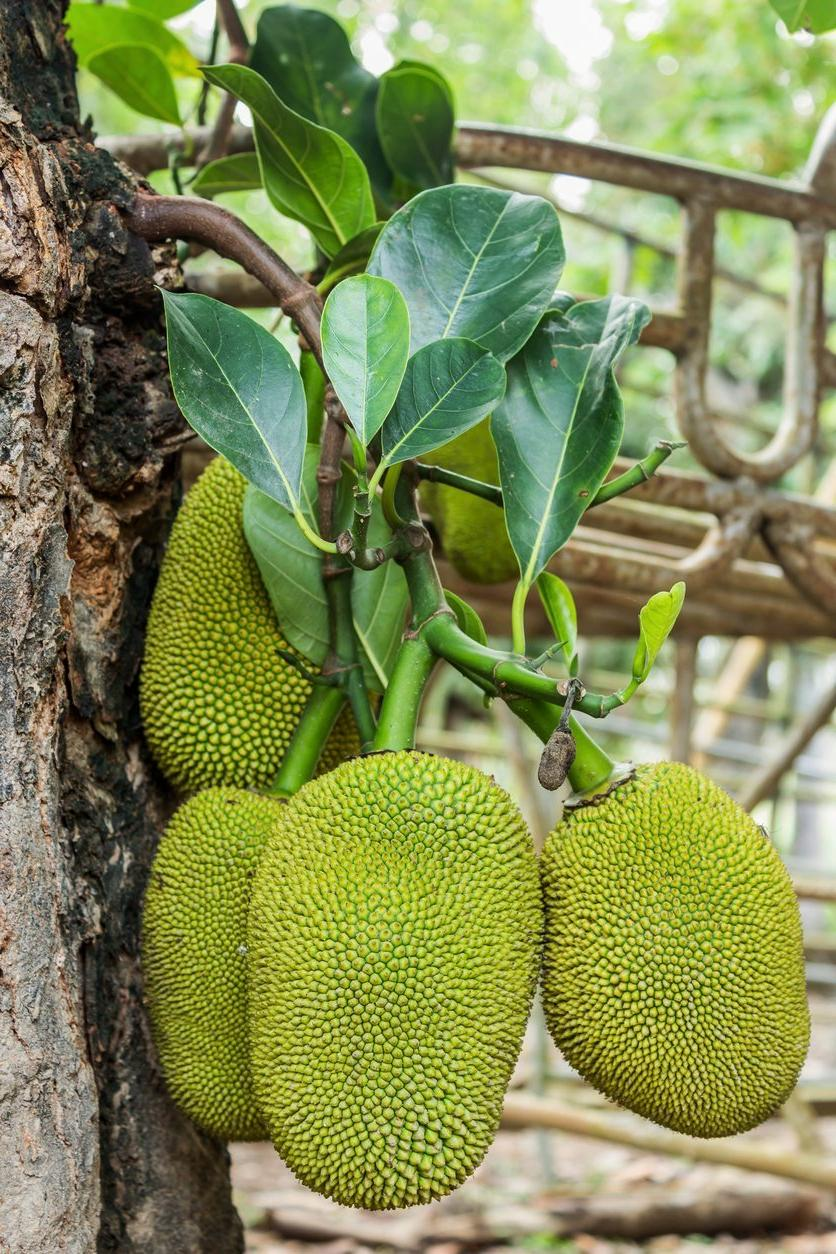mit: (244, 758, 540, 1220), (550, 760, 810, 1136)
